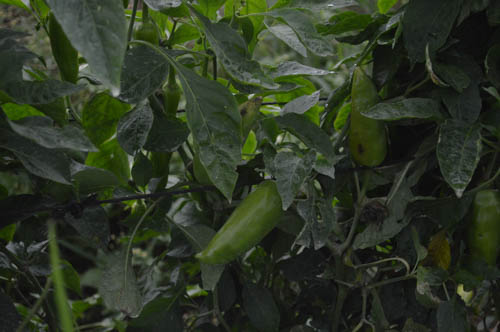ChiliPepper: (188, 177, 285, 269), (345, 60, 396, 171), (142, 77, 189, 194), (41, 10, 81, 88), (467, 186, 500, 268), (131, 15, 166, 49)
